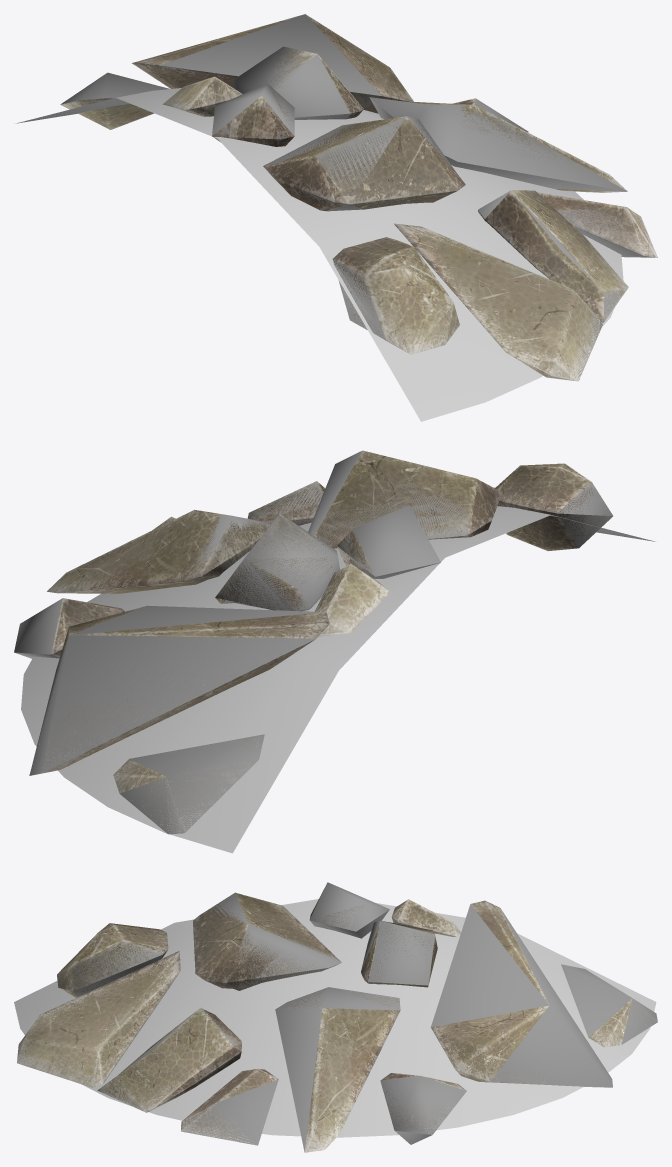
The model's file is z_debris_big_05.FBX.
The picture shows the model from 3 angles, top to bottom: view 1: azimuth 30°, elevation 25°; view 2: azimuth 150°, elevation 25°; view 3: azimuth 270°, elevation 25°; orthographic projection. The views are drawn at different scales.
Visible parts, largest first — view 1: debris_big_05_LOD0, debris_big_05_CLOD0, debris_big_m_03_LOD0, debris_big_m_03_CLOD0; view 2: debris_big_05_CLOD0, debris_big_05_LOD0, debris_big_m_03_LOD0; view 3: debris_big_05_LOD0, debris_big_05_CLOD0, debris_big_m_03_LOD0.
Boxes of the visible parts, bbox=[...] form: debris_big_05_LOD0: bbox=[60, 14, 657, 381]; debris_big_05_CLOD0: bbox=[60, 14, 657, 380]; debris_big_m_03_LOD0: bbox=[116, 88, 623, 421]; debris_big_m_03_CLOD0: bbox=[16, 98, 129, 123]; debris_big_05_CLOD0: bbox=[14, 451, 613, 834]; debris_big_05_LOD0: bbox=[20, 450, 612, 833]; debris_big_m_03_LOD0: bbox=[21, 506, 550, 853]; debris_big_05_LOD0: bbox=[17, 888, 656, 1152]; debris_big_05_CLOD0: bbox=[70, 882, 657, 1151]; debris_big_m_03_LOD0: bbox=[14, 899, 656, 1137].
Size of what is drawn, in the model's own units: 117 by 53.48 by 210.
